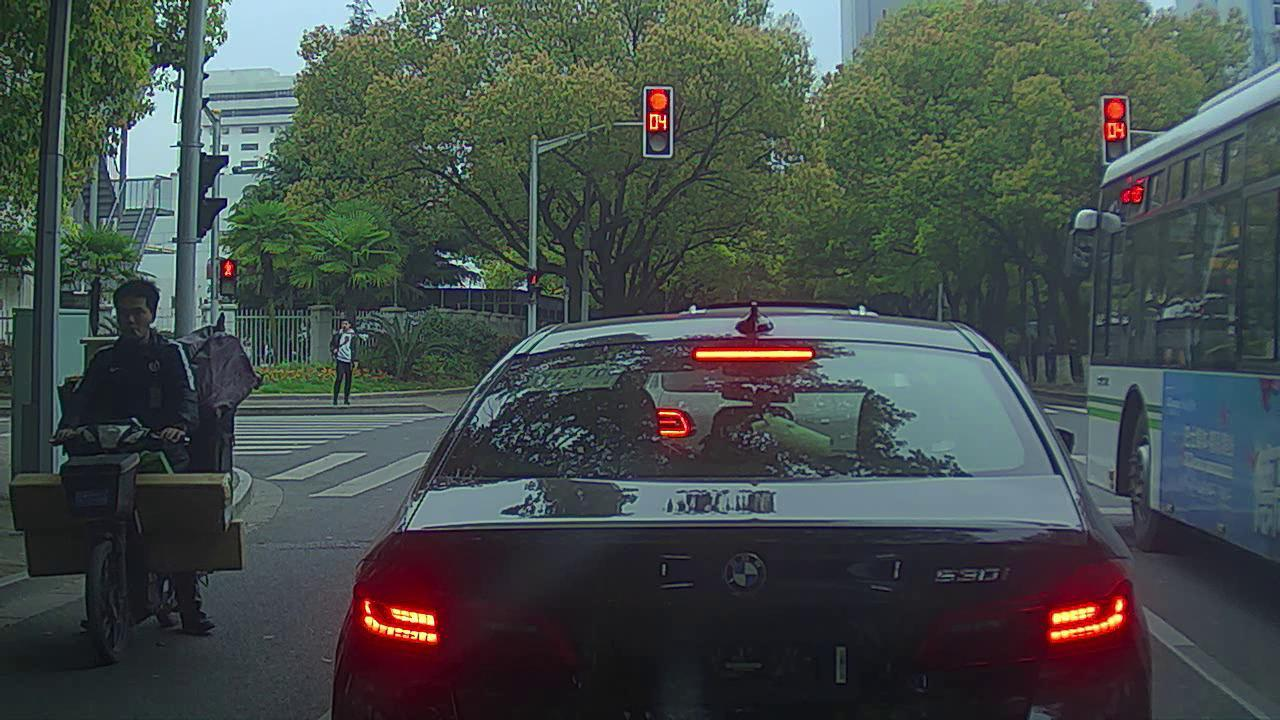traffic_light: (1099, 94, 1134, 163), (642, 84, 675, 157)
